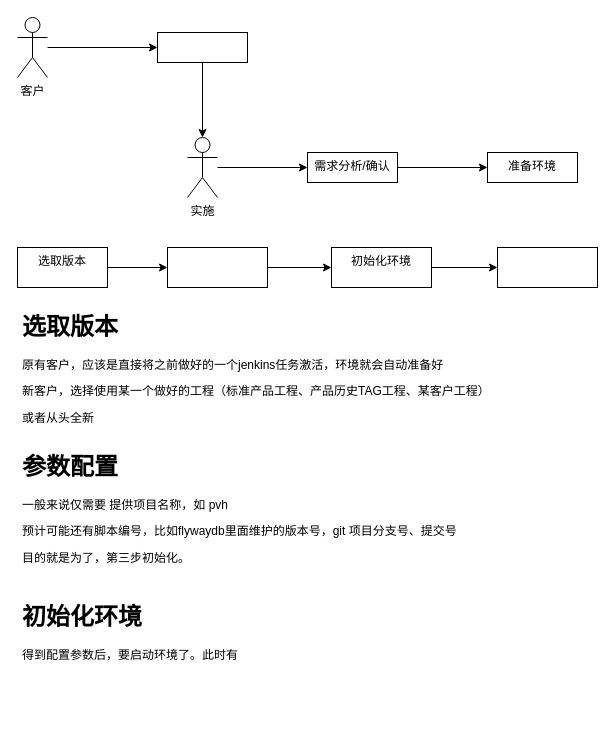
The diagram is 615 pixels wide and 735 high, and some of its shapes have lost their labels. Here are the shapes that lost their labels. From the top down, the centre of each, then its label:
the point at 202,47: 提出需求
the point at 217,267: 参数配置
the point at 547,267: 完成
